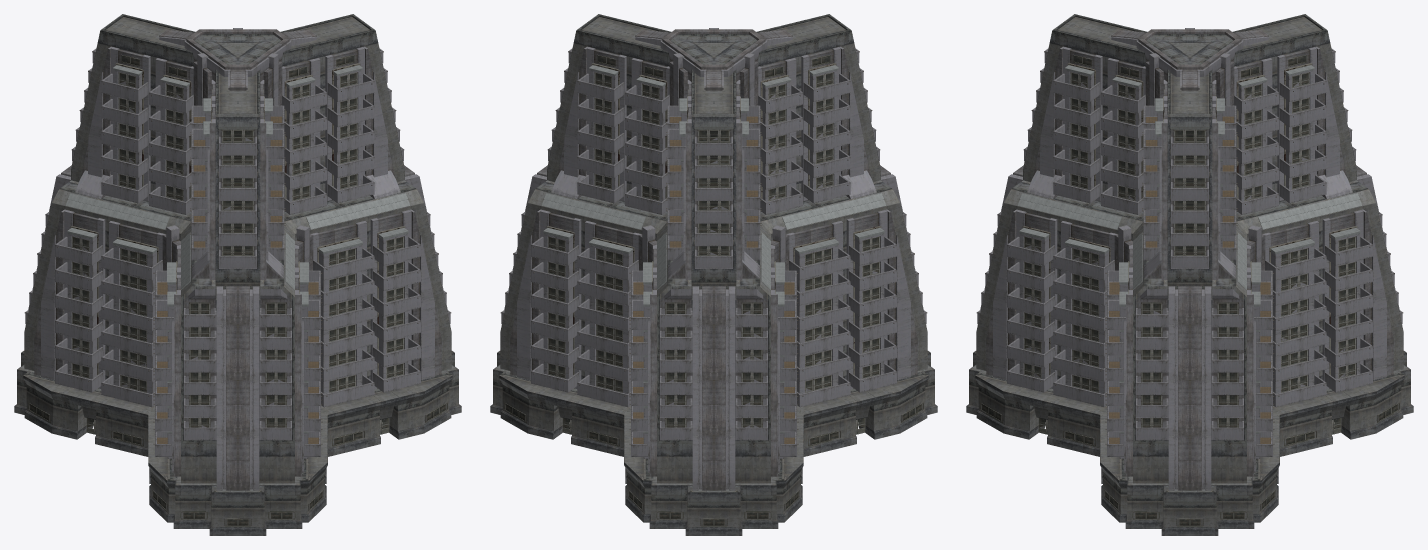
Rendered from tricorner-lite.glb.
The picture shows the model from 3 angles, left to right: view 1: azimuth 30°, elevation 25°; view 2: azimuth 150°, elevation 25°; view 3: azimuth 270°, elevation 25°; orthographic projection.
Parts seen in each view (by area): view 1: Walls, Balconies, Windows, Roofing; view 2: Walls, Balconies, Windows, Roofing; view 3: Walls, Balconies, Windows, Roofing.
Part boxes in pixels (box(x1,y1,x2,y2)): Walls: box(14, 14, 461, 535); Balconies: box(25, 48, 450, 456); Windows: box(24, 51, 451, 526); Roofing: box(65, 65, 410, 433); Walls: box(490, 14, 937, 535); Balconies: box(501, 48, 926, 456); Windows: box(500, 51, 927, 526); Roofing: box(541, 65, 886, 433); Walls: box(966, 14, 1413, 535); Balconies: box(977, 48, 1402, 456); Windows: box(976, 51, 1403, 526); Roofing: box(1017, 65, 1362, 433).
Size of the model in its own units: 46.97 by 50.16 by 52.04.
8 materials, 8 textured.
